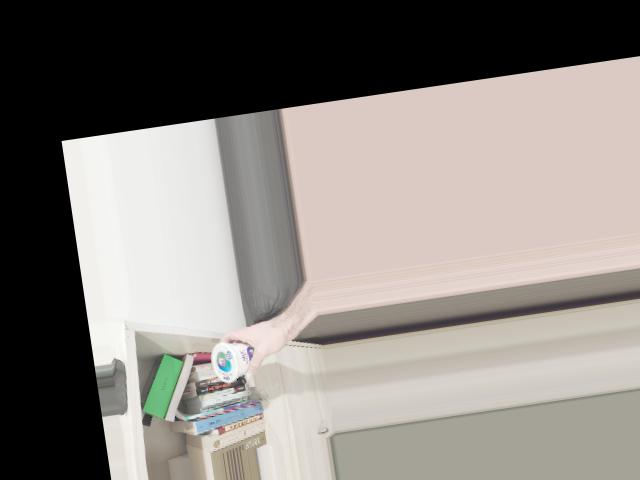cotage: (206, 333, 264, 385)
